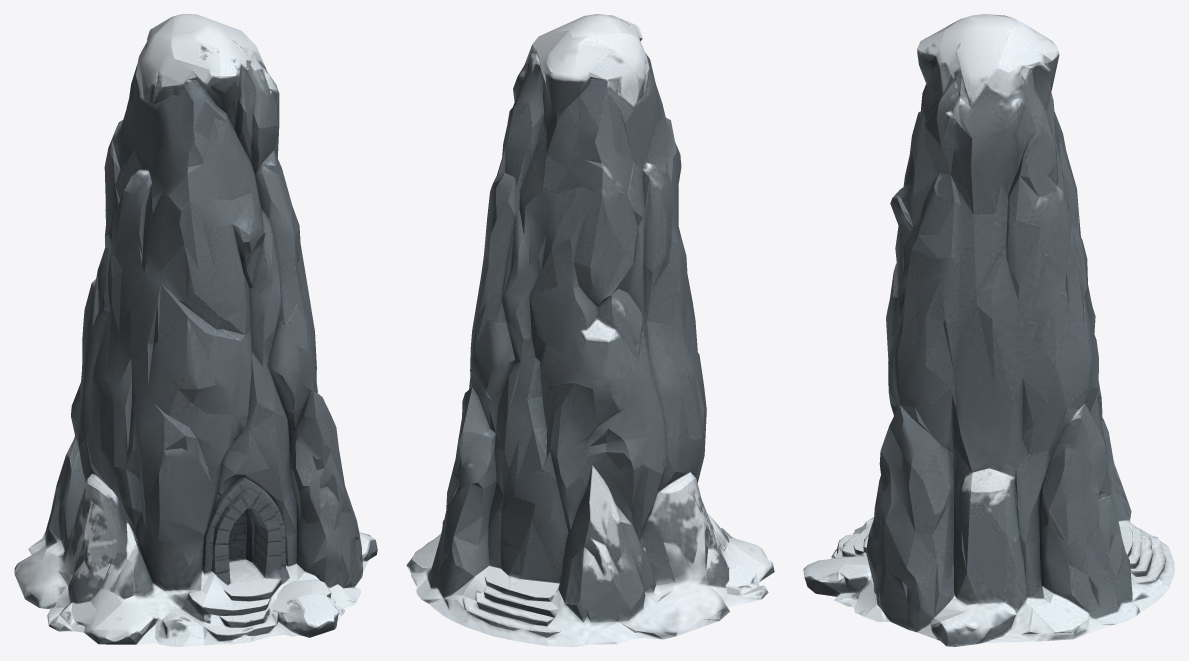
File: tooth.glb
3 views of the same model, side by side, from view 1: azimuth 30°, elevation 25°; view 2: azimuth 150°, elevation 25°; view 3: azimuth 270°, elevation 25° (orthographic).
Size of the model in its own units: 1.15 by 1.9 by 1.16.
Materials: 1 (1 with a texture image).
